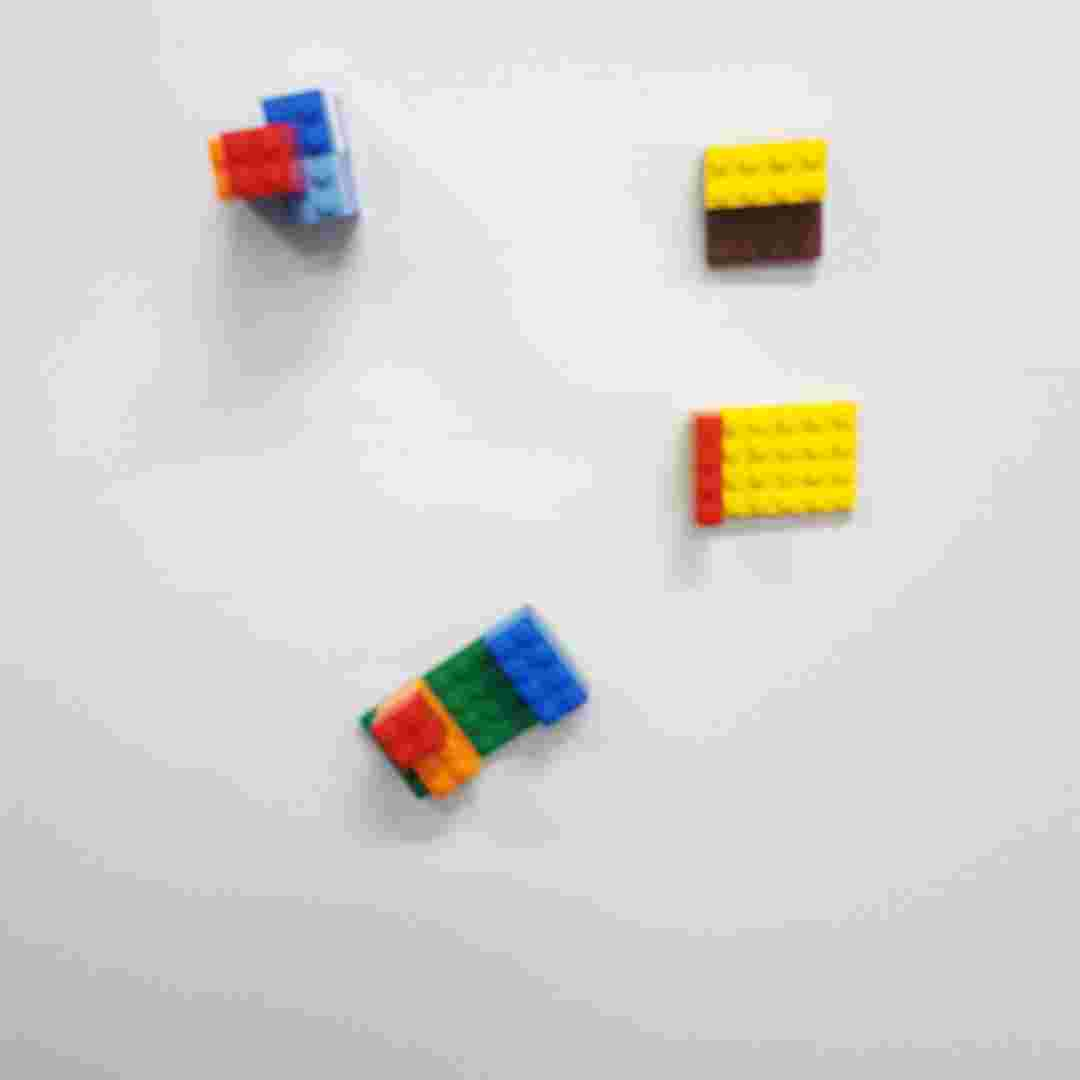LEGO: (353, 603, 594, 812), (686, 397, 865, 537), (202, 86, 365, 229), (698, 133, 838, 271)
